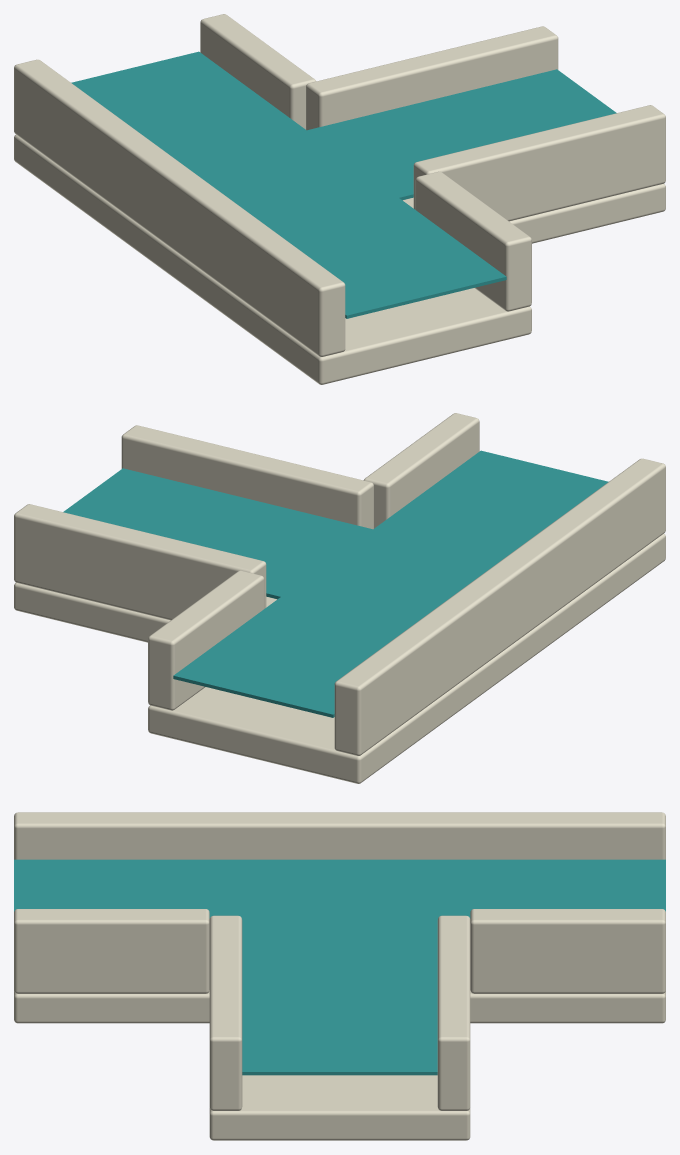
Rendered from water-clock-garden-and-hydraulic-puzzles-open-channel--2dae86cd__31953.glb.
3 renders of one model, top to bottom at view 1: azimuth 30°, elevation 25°; view 2: azimuth 150°, elevation 25°; view 3: azimuth 270°, elevation 25°, orthographic. The views are drawn at different scales.
Visible parts, largest first — view 1: open-channel-tee; view 2: open-channel-tee; view 3: open-channel-tee.
Part boxes in pixels (<box>): open-channel-tee: <box>14,14,665,384</box>; open-channel-tee: <box>14,413,665,783</box>; open-channel-tee: <box>14,812,665,1140</box>.
Bounding box in the file's own units: 1.65 × 0.3499 × 2.
